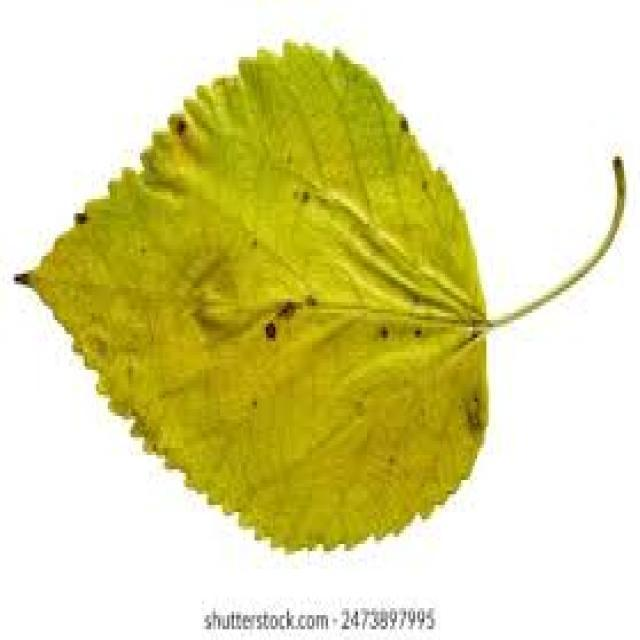leaf: (13, 37, 626, 555)
